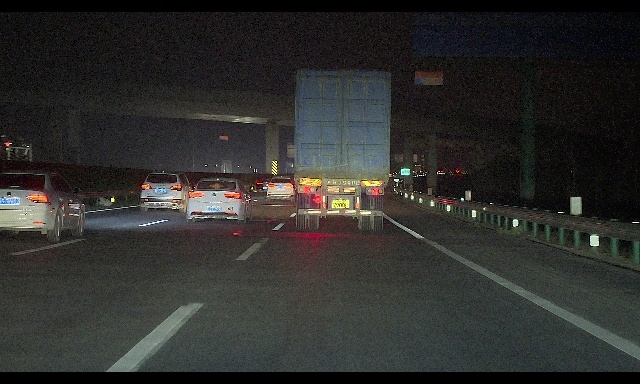car: (0, 170, 86, 242), (187, 178, 254, 224), (140, 171, 196, 213), (267, 177, 295, 202), (256, 178, 273, 193), (263, 178, 274, 191)
truck: (294, 67, 392, 231), (0, 134, 33, 193)
